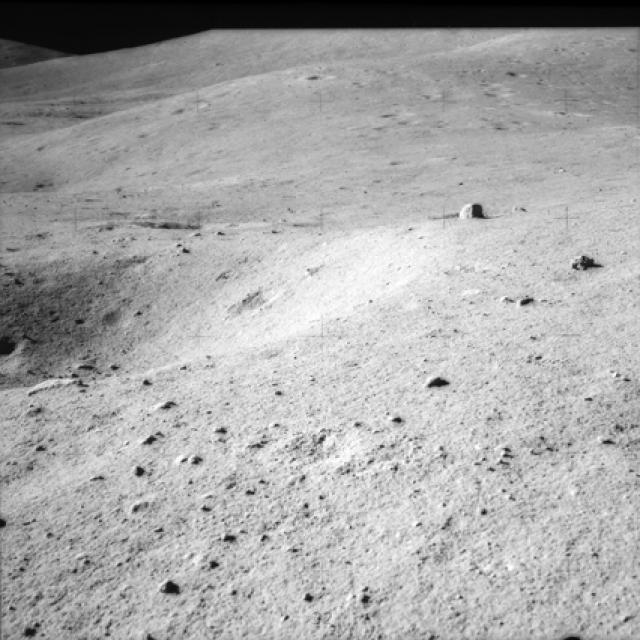crater: (0, 239, 392, 382), (3, 154, 138, 196)
rock: (456, 196, 498, 220), (148, 572, 184, 599), (421, 372, 455, 394), (569, 249, 602, 270), (383, 406, 407, 426)
